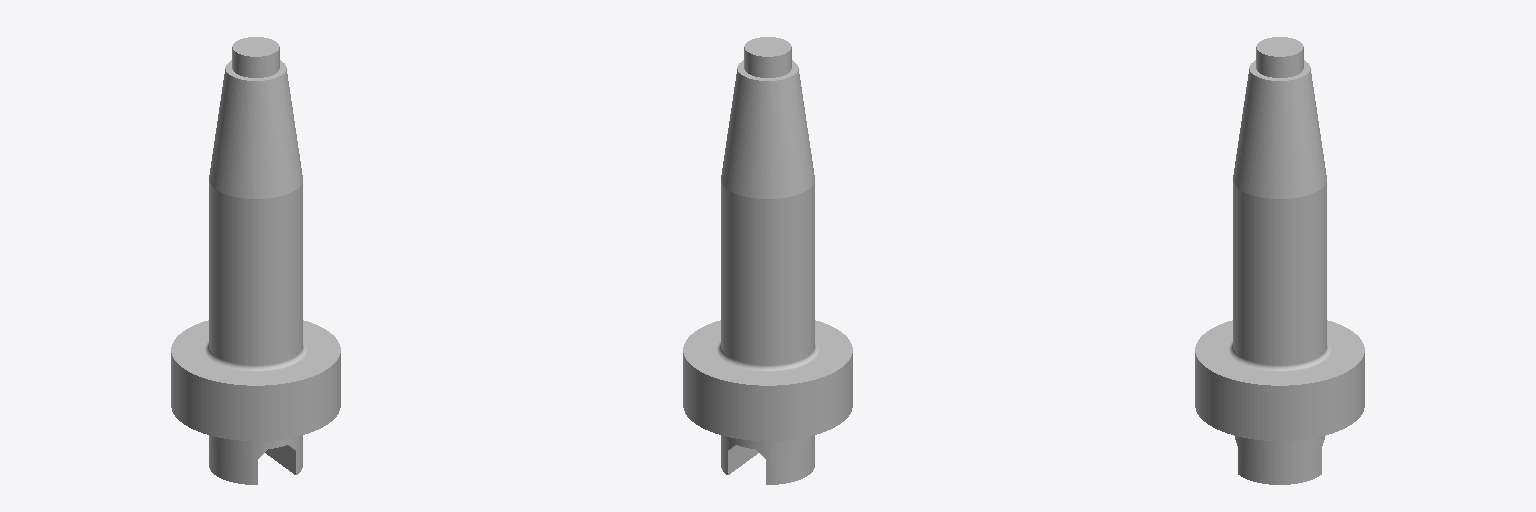
File: Buoy 950410 Red.obj
3 renders of one model, left to right at view 1: azimuth 30°, elevation 25°; view 2: azimuth 150°, elevation 25°; view 3: azimuth 270°, elevation 25°, orthographic.
Visible parts, largest first — view 1: Buoy_950410_Red; view 2: Buoy_950410_Red; view 3: Buoy_950410_Red.
Part boxes in pixels (bbox=[...]): Buoy_950410_Red: bbox=[171, 37, 340, 484]; Buoy_950410_Red: bbox=[683, 37, 852, 484]; Buoy_950410_Red: bbox=[1195, 37, 1364, 484].
Size of the model in its own units: 2.23 by 6.08 by 2.23.